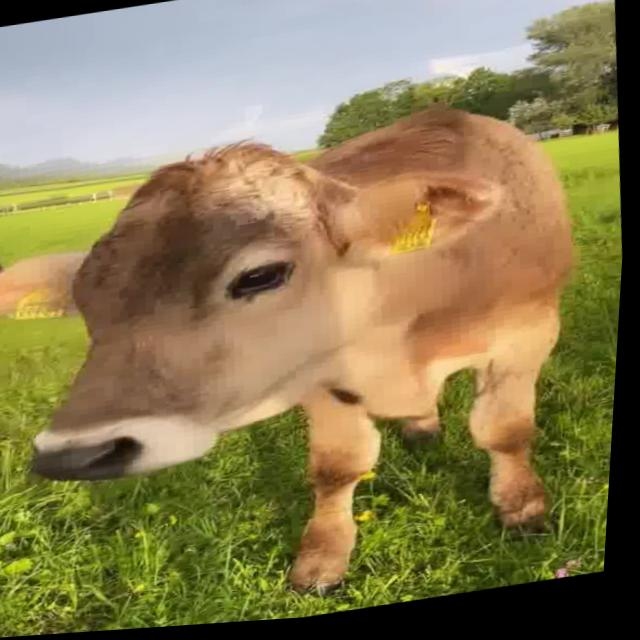cowFace: (0, 99, 514, 444)
